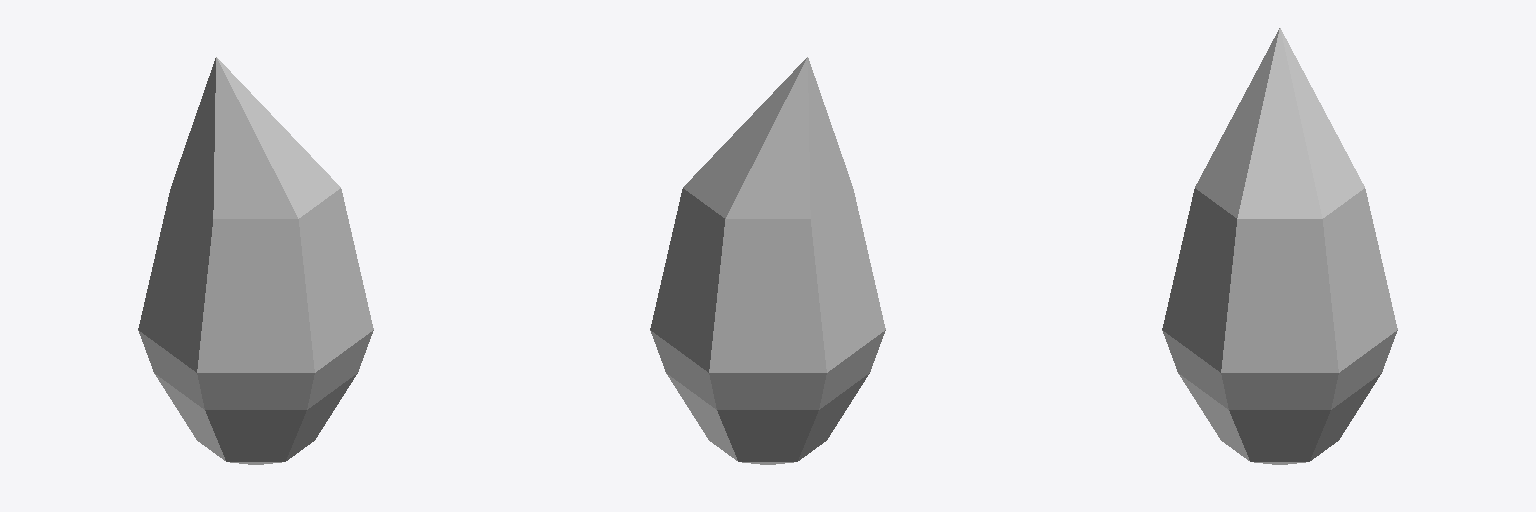
File: collectible_flame.obj
The picture shows the model from 3 angles: view 1: azimuth 30°, elevation 25°; view 2: azimuth 150°, elevation 25°; view 3: azimuth 270°, elevation 25°; orthographic projection.
Visible parts, largest first — view 1: collectible__flame_Cylinder.009; view 2: collectible__flame_Cylinder.009; view 3: collectible__flame_Cylinder.009.
Boxes of the visible parts, x1=… form: collectible__flame_Cylinder.009: x1=138, y1=57, x2=373, y2=464; collectible__flame_Cylinder.009: x1=650, y1=57, x2=885, y2=464; collectible__flame_Cylinder.009: x1=1162, y1=28, x2=1397, y2=464.
Bounding box in the file's own units: 0.3395 × 0.7683 × 0.392.